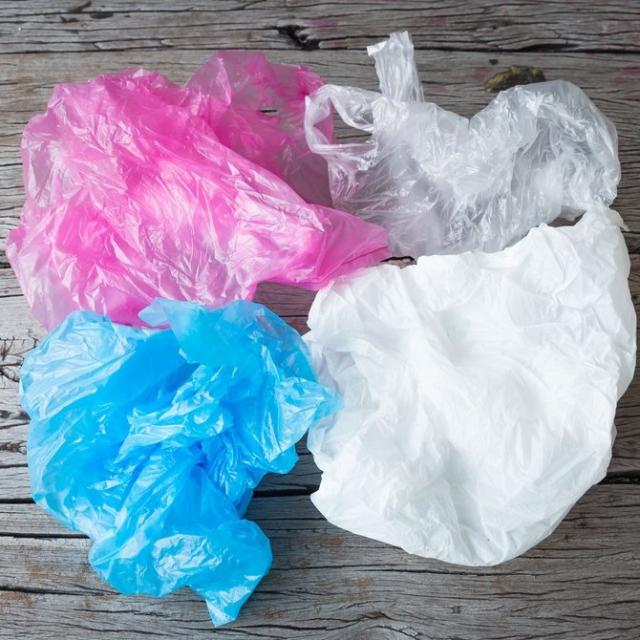Single-layer Plastic: (305, 206, 636, 566), (8, 51, 389, 329), (21, 299, 340, 624), (306, 32, 620, 257)
